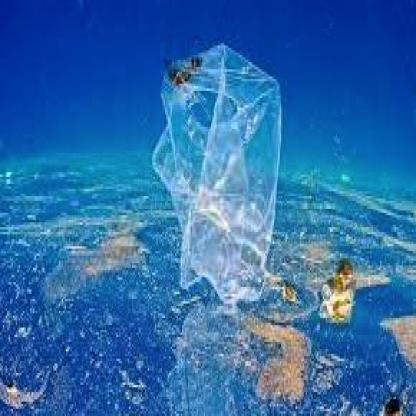pbag: (151, 38, 284, 318)
